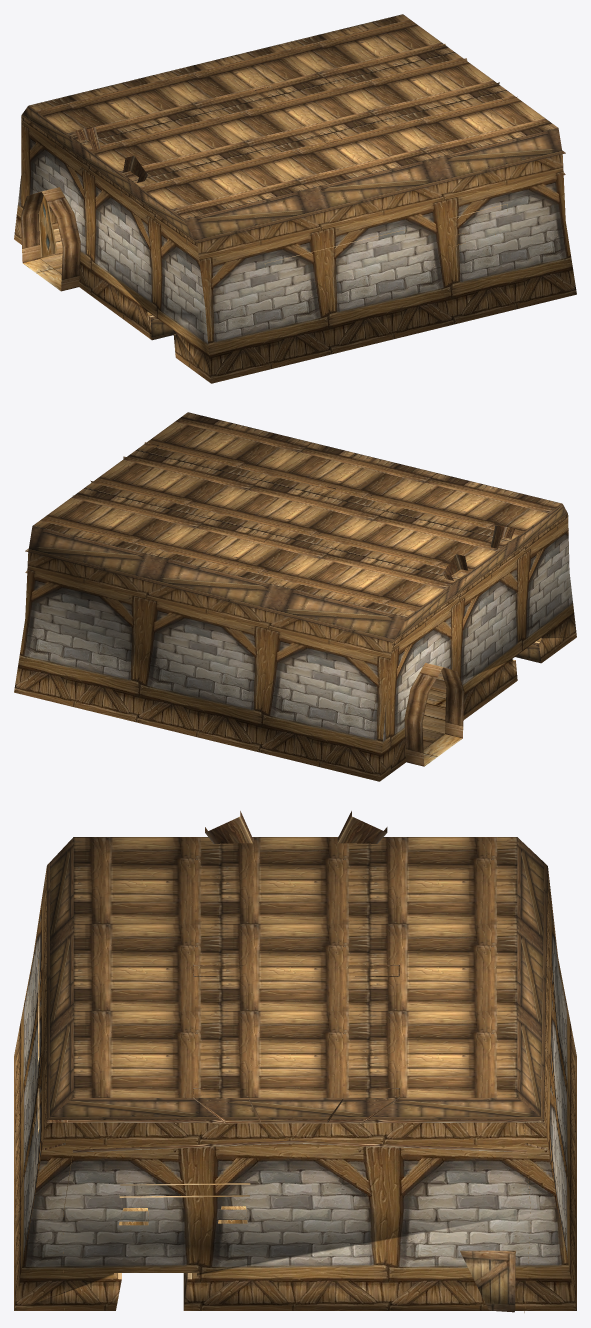
The model's file is stormwind_193.fbx.
3 renders of one model, top to bottom at view 1: azimuth 30°, elevation 25°; view 2: azimuth 150°, elevation 25°; view 3: azimuth 270°, elevation 25°, orthographic. The views are drawn at different scales.
Visible parts, largest first — view 1: stormwind_193_87, stormwind_193_55, stormwind_193_56, stormwind_193_49, stormwind_193_53; view 2: stormwind_193_87, stormwind_193_55, stormwind_193_56, stormwind_193_49, stormwind_193_53, stormwind_193_51; view 3: stormwind_193_55, stormwind_193_87, stormwind_193_56, stormwind_193_53, stormwind_193_59, stormwind_193_54.
Part boxes in pixels (<box>): stormwind_193_87: <box>14,115,576,383</box>; stormwind_193_55: <box>29,14,557,219</box>; stormwind_193_56: <box>22,106,562,340</box>; stormwind_193_49: <box>20,187,80,291</box>; stormwind_193_53: <box>23,43,565,299</box>; stormwind_193_87: <box>14,514,576,781</box>; stormwind_193_55: <box>33,412,561,617</box>; stormwind_193_56: <box>28,504,567,663</box>; stormwind_193_49: <box>404,663,464,766</box>; stormwind_193_53: <box>25,442,558,766</box>; stormwind_193_51: <box>422,671,446,748</box>; stormwind_193_55: <box>73,837,517,1097</box>; stormwind_193_87: <box>14,866,576,1310</box>; stormwind_193_56: <box>47,837,547,1308</box>; stormwind_193_53: <box>33,811,572,1312</box>; stormwind_193_59: <box>460,1250,515,1312</box>; stormwind_193_54: <box>33,959,250,1279</box>.
Bounding box in the file's own units: 17.04 × 7.09 × 14.96.
